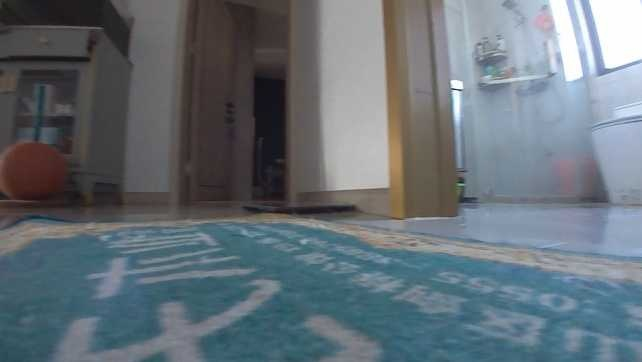blanket: (0, 210, 641, 361)
door_anno: (167, 0, 242, 201)
toilet: (585, 100, 641, 209)
weight_scale: (240, 196, 359, 216)
